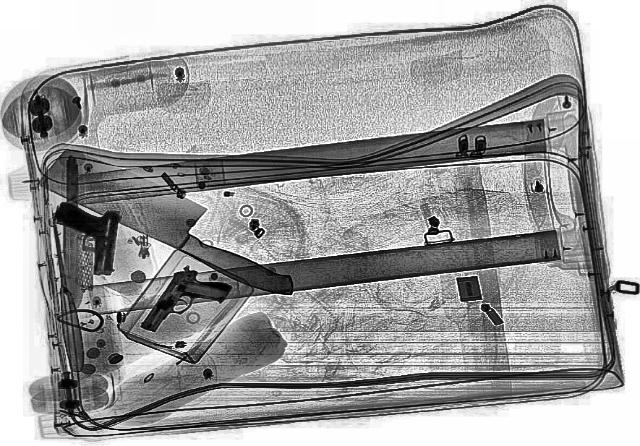Gun: (136, 264, 238, 342), (46, 202, 120, 276)
Knife: (22, 144, 332, 302), (42, 211, 86, 371), (57, 157, 83, 304)
